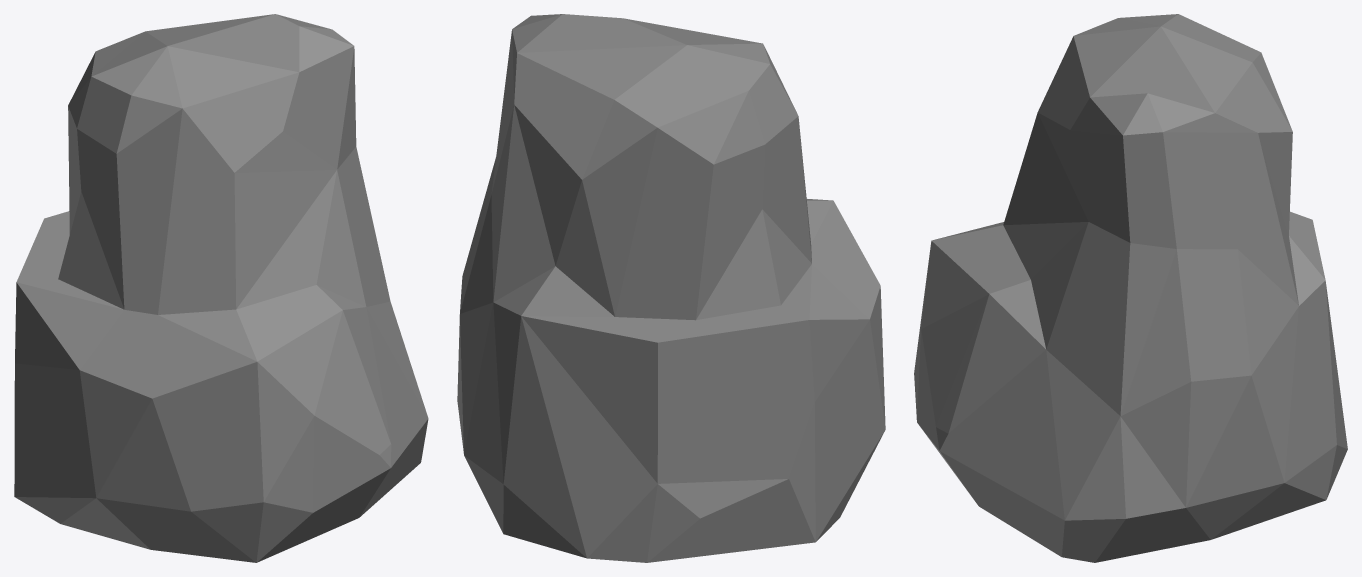
Rendered from Stone.fbx.
3 views of the same model, side by side, from view 1: azimuth 30°, elevation 25°; view 2: azimuth 150°, elevation 25°; view 3: azimuth 270°, elevation 25° (orthographic). The views are drawn at different scales.
Parts seen in each view (by area): view 1: Stone; view 2: Stone; view 3: Stone.
Boxes of the visible parts, x1,y1,x2,y2 form: Stone: [14, 14, 428, 562]; Stone: [457, 14, 885, 562]; Stone: [914, 14, 1347, 562].
Size of the model in its own units: 3.3 by 3.97 by 3.45.
